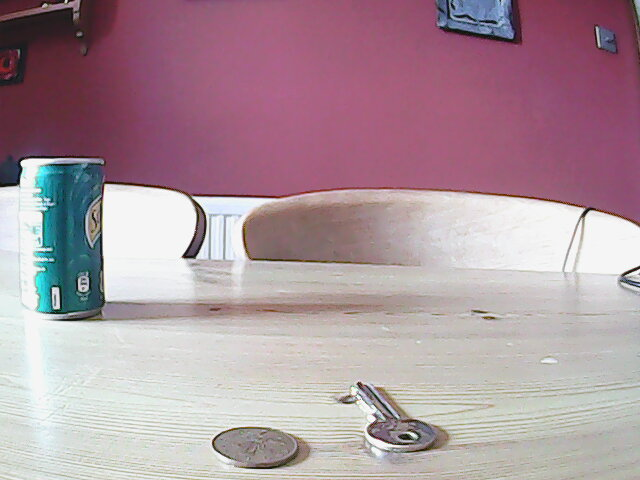Can: (15, 157, 109, 325)
Coin: (209, 423, 304, 471)
Key: (347, 381, 442, 457)
